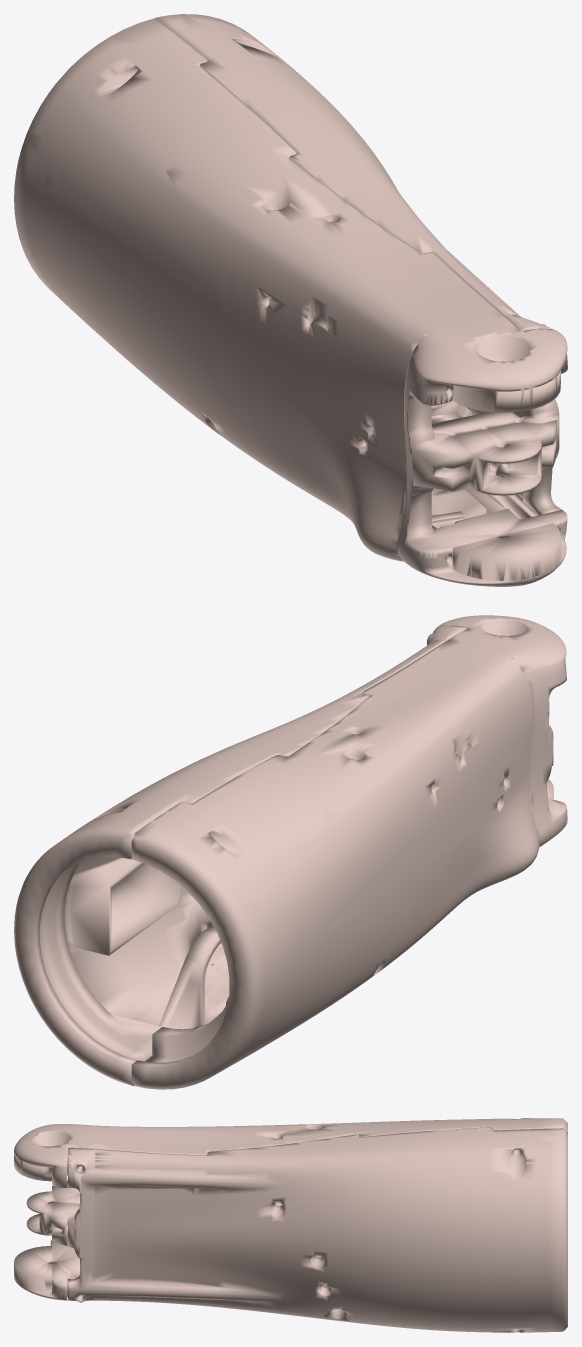
The model's file is forearm_1.obj.
3 renders of one model, top to bottom at view 1: azimuth 30°, elevation 25°; view 2: azimuth 150°, elevation 25°; view 3: azimuth 270°, elevation 25°, orthographic. The views are drawn at different scales.
Bounding box in the file's own units: 83.95 × 83.98 × 218.
